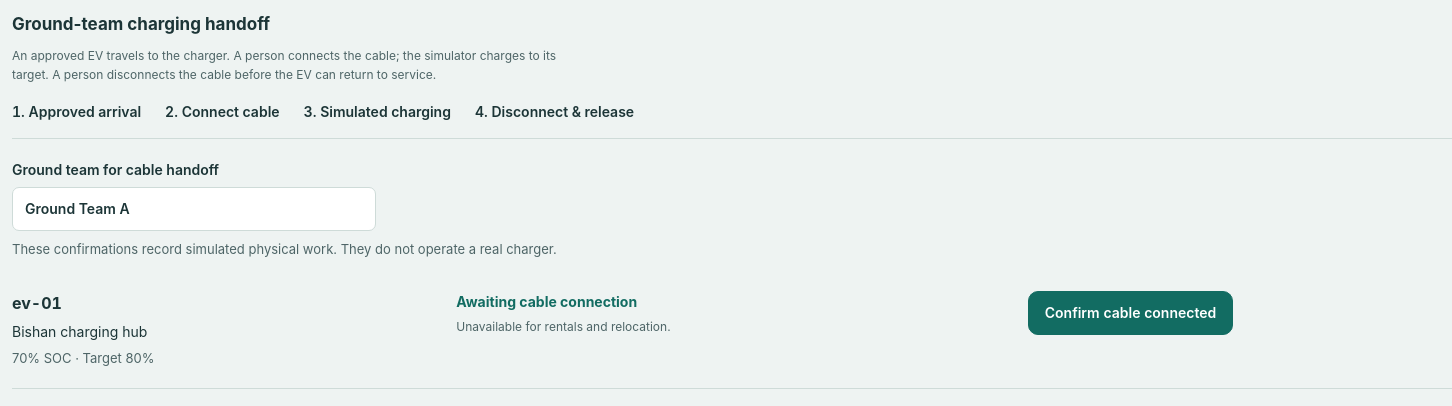
Test: ground-team charging handoff › resolves a lost response when polling confirms the committed cable stage
This screenshot has width=1452, height=406.
Later steps or results of the test are not shown.
Click the button with aria-label "Confirm cable connected for ev-01": click(1131, 313) [1028,291,1233,335]
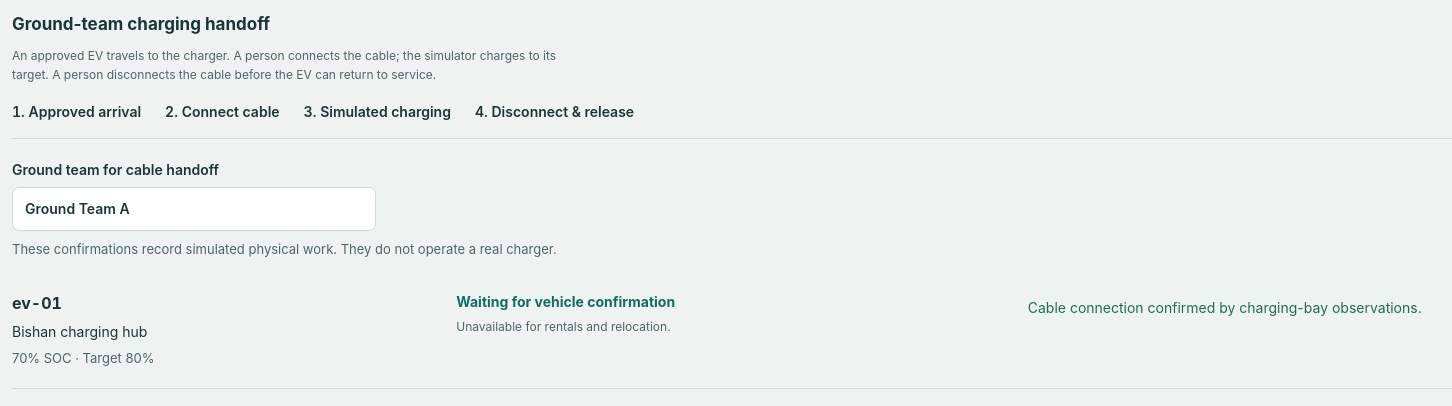
expect the text "Cable connection confirmed by charging-bay observations." is shown: met, box [1028,297,1422,319]
